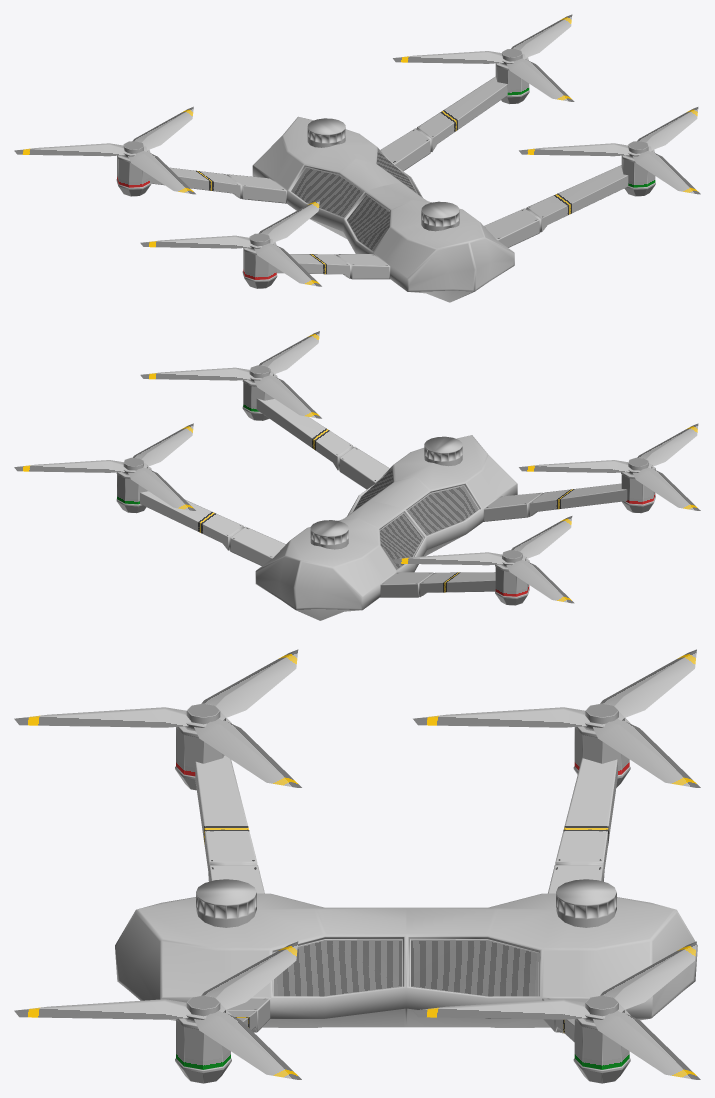
The model's file is Drone.glb.
3 renders of one model, top to bottom at view 1: azimuth 30°, elevation 25°; view 2: azimuth 150°, elevation 25°; view 3: azimuth 270°, elevation 25°, orthographic. The views are drawn at different scales.
Parts seen in each view (by area): view 1: Cube, Cylinder.001, Cylinder.004, Cylinder.007, Cylinder.003, Cylinder.002, Cylinder.005, Cylinder.008, Cylinder.006; view 2: Cube, Cylinder.007, Cylinder.003, Cylinder.001, Cylinder.004, Cylinder.005, Cylinder.002, Cylinder.006, Cylinder.008; view 3: Cube, Cylinder.003, Cylinder.001, Cylinder.004, Cylinder.007, Cylinder.006, Cylinder.008, Cylinder.002, Cylinder.005.
Part boxes in pixels (<box>): Cube: <box>150,76,628,302</box>; Cylinder.001: <box>140,199,321,286</box>; Cylinder.004: <box>14,106,195,194</box>; Cylinder.007: <box>519,107,700,194</box>; Cylinder.003: <box>393,14,574,101</box>; Cylinder.002: <box>242,242,277,288</box>; Cylinder.005: <box>116,149,151,196</box>; Cylinder.008: <box>621,149,655,196</box>; Cylinder.006: <box>495,57,529,104</box>; Cube: <box>140,398,627,620</box>; Cylinder.007: <box>140,331,321,418</box>; Cylinder.003: <box>14,423,195,510</box>; Cylinder.001: <box>519,423,700,510</box>; Cylinder.004: <box>393,516,574,603</box>; Cylinder.005: <box>495,559,529,605</box>; Cylinder.002: <box>621,466,655,513</box>; Cylinder.006: <box>116,466,151,513</box>; Cylinder.008: <box>242,374,277,420</box>; Cube: <box>115,755,697,1042</box>; Cylinder.003: <box>413,941,700,1079</box>; Cylinder.001: <box>14,649,301,787</box>; Cylinder.004: <box>413,649,700,787</box>; Cylinder.007: <box>14,941,301,1079</box>; Cylinder.006: <box>573,1009,630,1083</box>; Cylinder.008: <box>175,1009,231,1083</box>; Cylinder.002: <box>175,718,231,790</box>; Cylinder.005: <box>573,718,630,787</box>.
Bounding box in the file's own units: 4.16 × 0.7787 × 2.81.
Materials: 1 (1 with a texture image).
